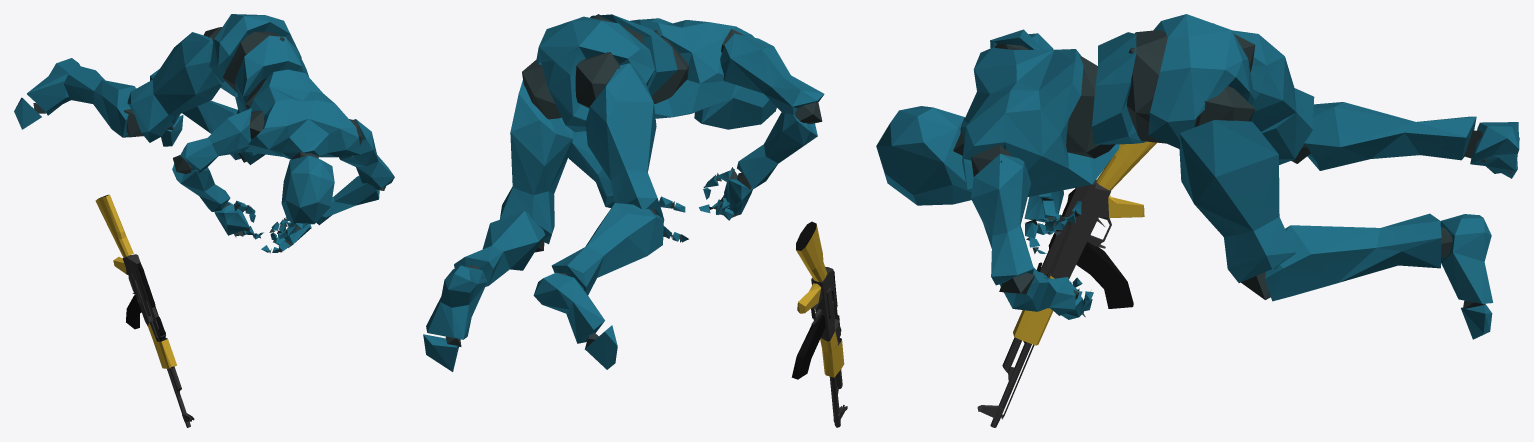
The model's file is EnemyDying_000044.obj.
3 views of the same model, side by side, from view 1: azimuth 30°, elevation 25°; view 2: azimuth 150°, elevation 25°; view 3: azimuth 270°, elevation 25° (orthographic). The views are drawn at different scales.
Parts seen in each view (by area): view 1: Alpha_Surface, AK-47_Cube, Alpha_Joints; view 2: Alpha_Surface, Alpha_Joints, AK-47_Cube; view 3: Alpha_Surface, Alpha_Joints, AK-47_Cube.
Boxes of the visible parts, x1,y1,x2,y2 form: Alpha_Surface: (14,14,394,252); AK-47_Cube: (95,194,194,427); Alpha_Joints: (33,27,385,253); Alpha_Surface: (423,14,824,371); Alpha_Joints: (445,14,822,348); AK-47_Cube: (791,221,847,427); Alpha_Surface: (876,14,1519,339); Alpha_Joints: (953,23,1512,317); AK-47_Cube: (977,141,1156,427).
Bounding box in the file's own units: 192 × 250 × 291.
